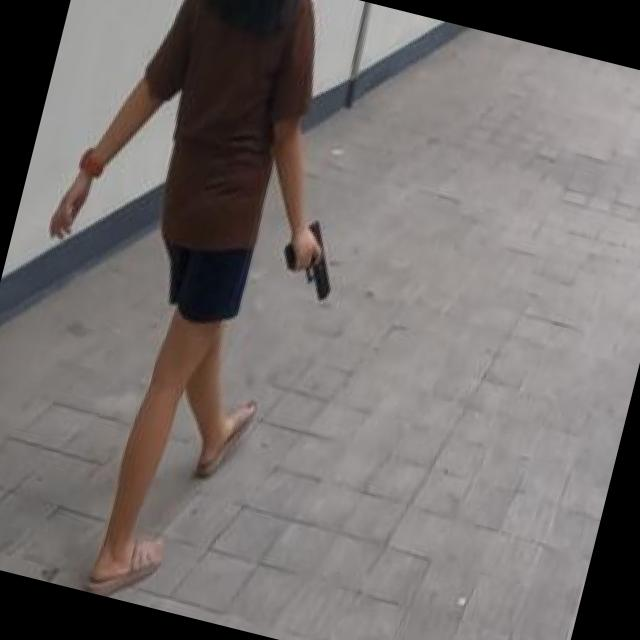Guns: (266, 206, 356, 315)
